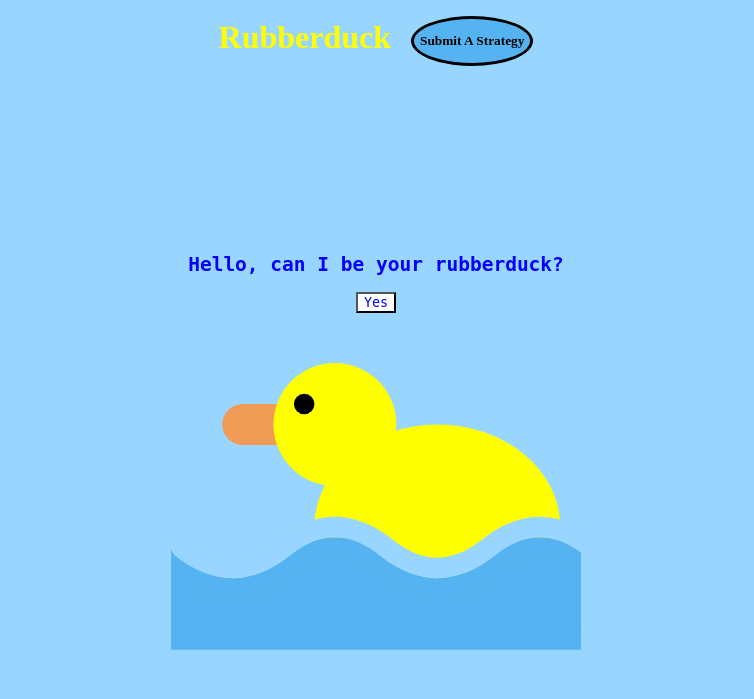
Form › Should refer to users specific problem
Click the button with class "yes-button".
click(376, 303)  # box 356,292 -> 396,313
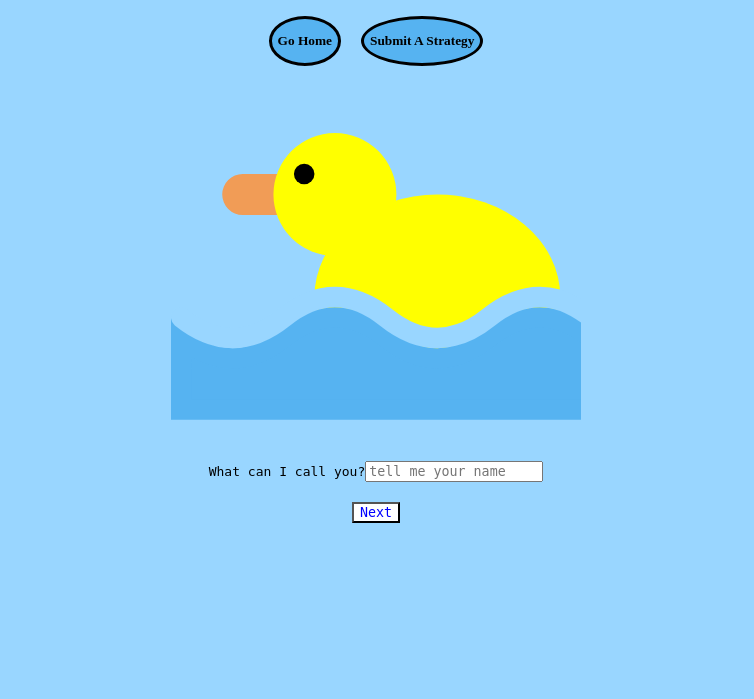
Type "cypress" into the field with class "name-input".
click(454, 472); type("cypress")  # box 365,461 -> 543,482
Click the button with class "forward-button".
click(376, 513)  # box 352,502 -> 400,523
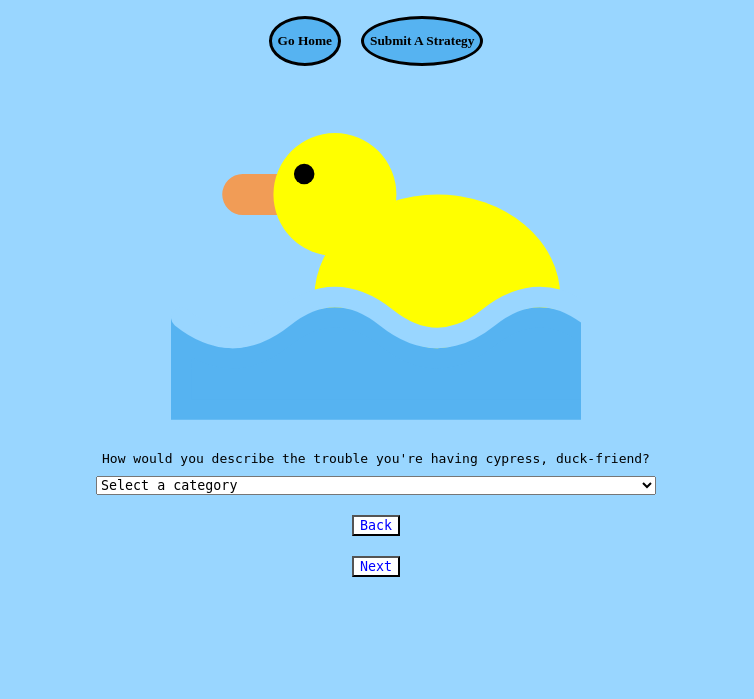
Select "it's a big bad bug 🐛" in the dropdown at (376, 486), box 96,476 -> 656,495
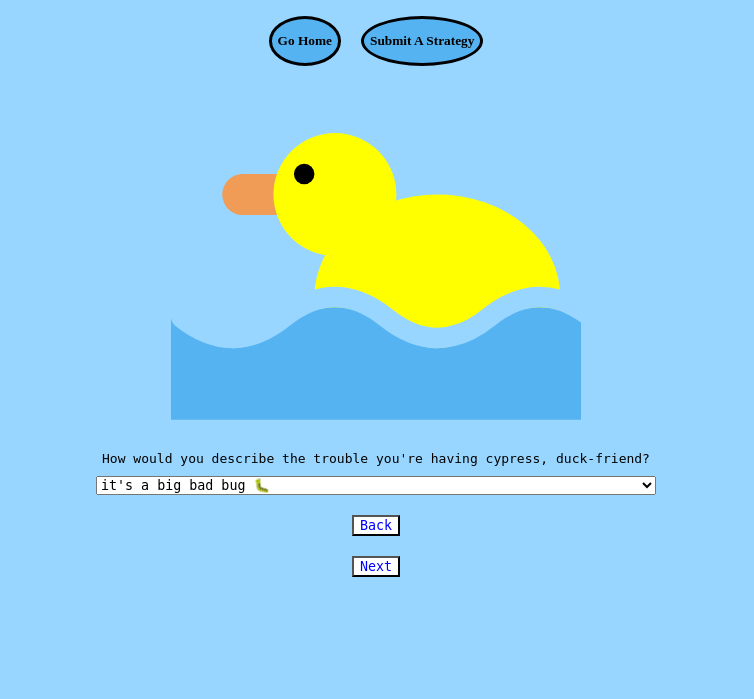
Click the button with class "forward-button".
click(376, 567)  # box 352,556 -> 400,577
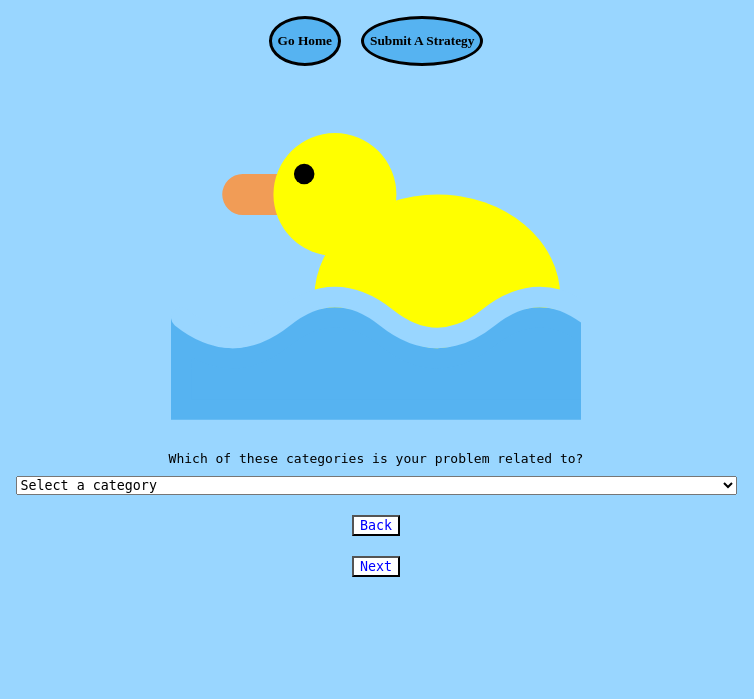
Select "something isolated and crunchy (e.g. how do I make this one function do a fancy " in the dropdown with class "tech-type-select" at (377, 486), box 16,476 -> 737,495
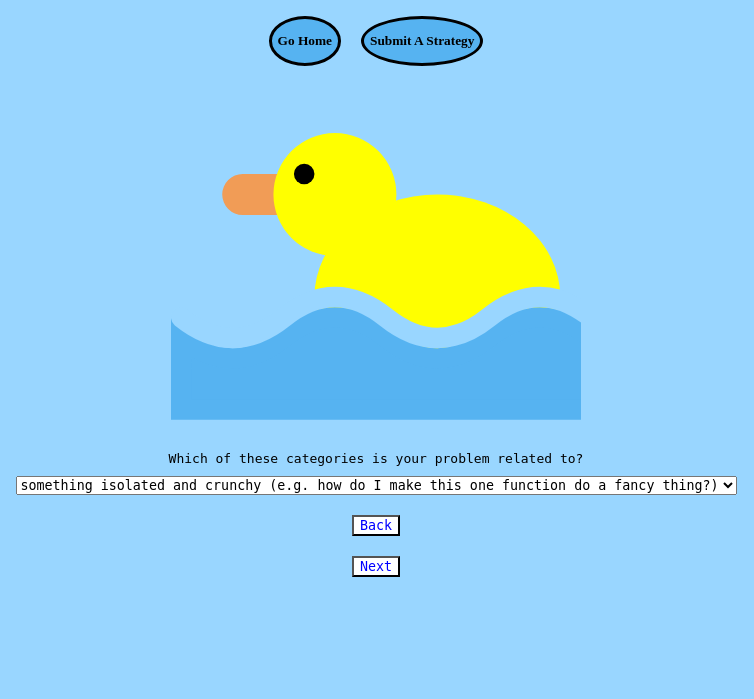
Click the button with class "forward-button".
click(376, 567)  # box 352,556 -> 400,577
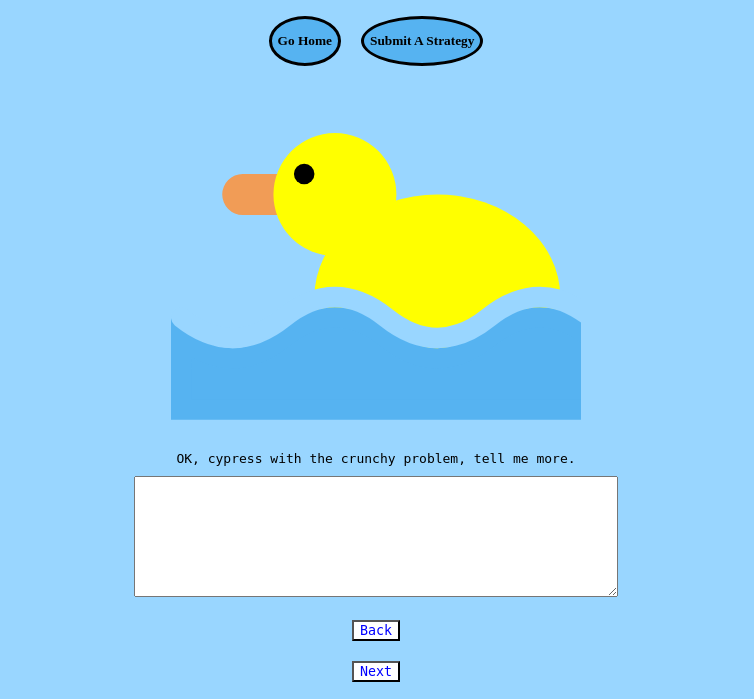
Result: the text "OK, cypress with the crunchy problem, tell me more." is shown at 134,450 -> 618,600
